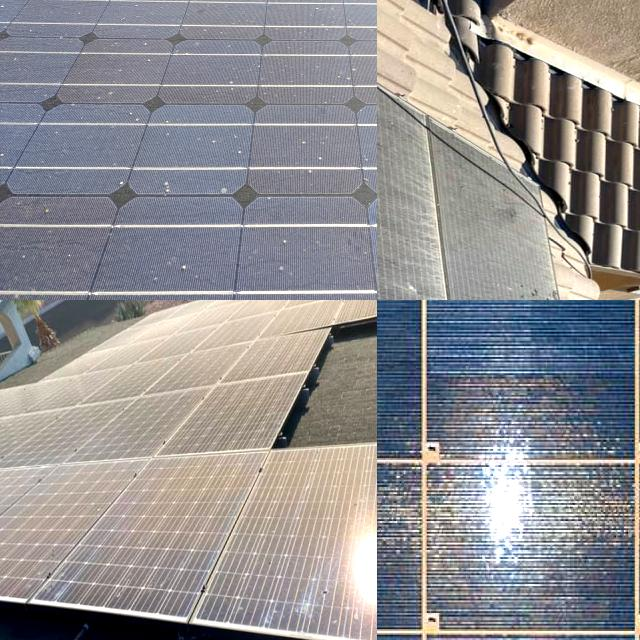dust: (110, 103, 273, 300), (434, 154, 592, 300), (271, 445, 377, 640), (5, 0, 204, 101), (133, 458, 254, 614), (285, 117, 377, 300), (2, 125, 98, 300), (236, 0, 377, 96), (377, 11, 424, 279), (32, 460, 118, 590), (377, 104, 422, 300), (214, 300, 318, 373), (174, 0, 337, 44), (0, 468, 63, 575), (54, 0, 172, 48), (136, 316, 203, 388), (210, 376, 271, 444), (0, 418, 105, 457), (130, 410, 205, 458), (58, 364, 128, 406), (0, 487, 29, 571), (2, 378, 54, 416), (0, 0, 46, 30), (0, 436, 16, 467)
shadow: (416, 376, 636, 640), (377, 453, 512, 558)
